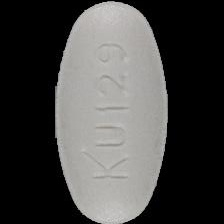21695-777: (0, 0, 224, 224)
